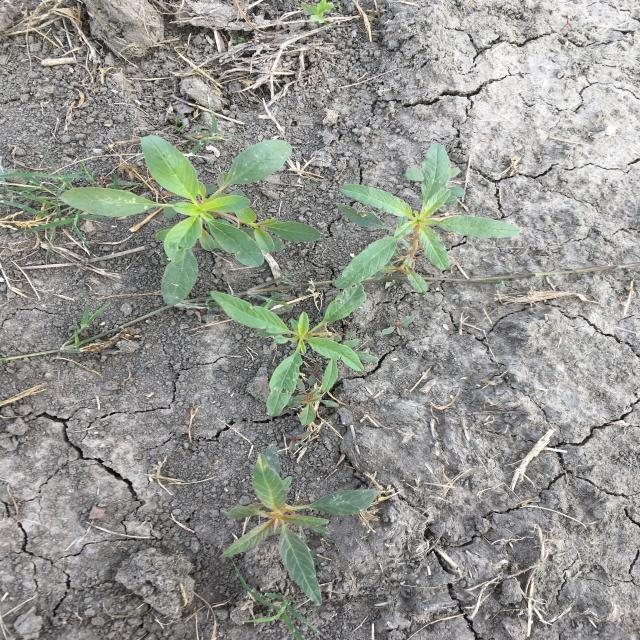Waterhemp: (60, 133, 323, 307), (332, 140, 522, 294), (216, 443, 384, 606), (209, 282, 382, 418), (287, 378, 340, 426)
